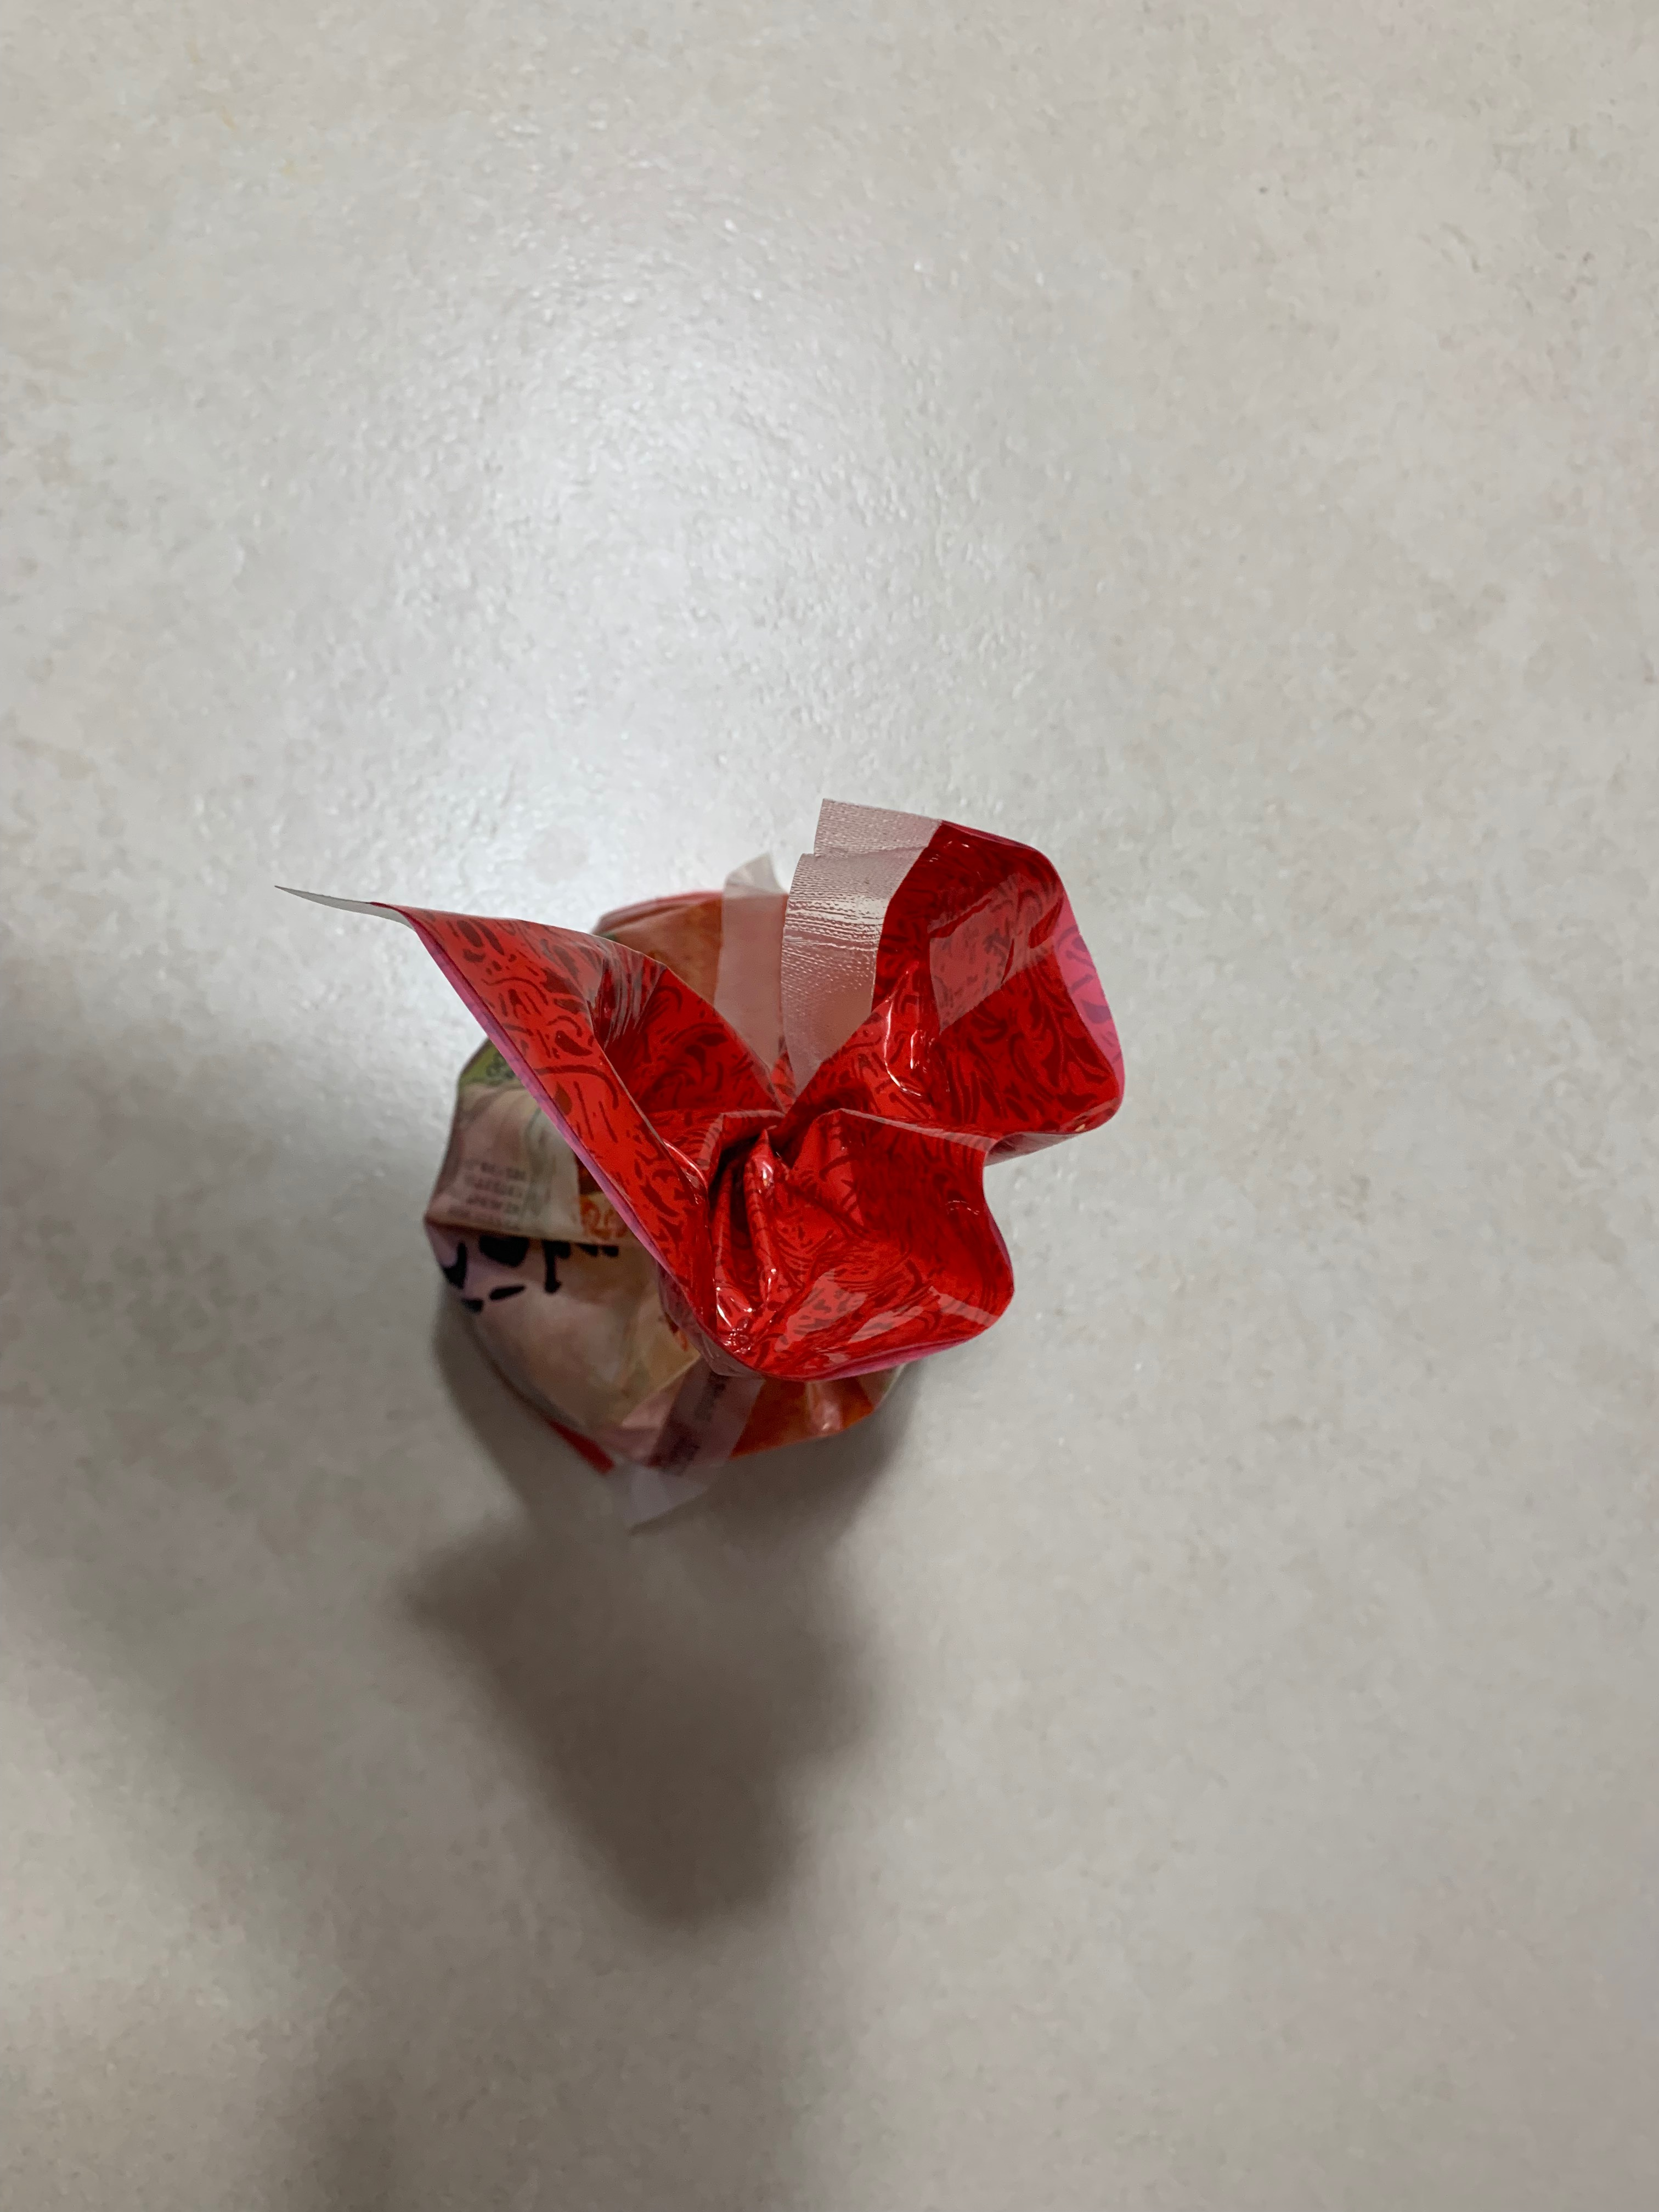kimchi: (418, 820, 1129, 1477)
